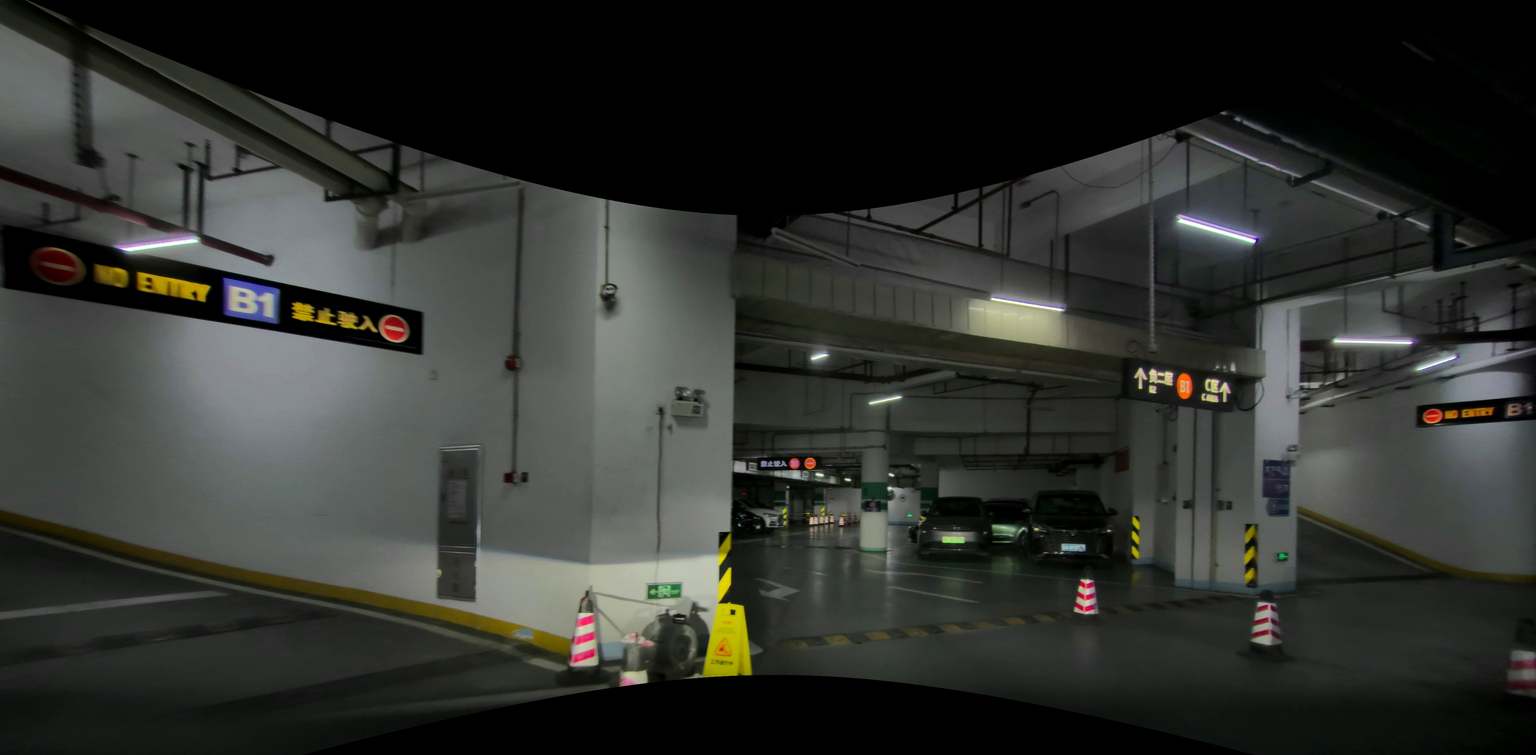B1: (228, 286, 282, 327), (1502, 399, 1533, 417), (1177, 376, 1192, 397)
C区: (1203, 377, 1220, 393)
NO ENTRY: (89, 261, 210, 302), (1444, 406, 1498, 421)
exits: (645, 581, 682, 598), (1276, 553, 1288, 562)
上: (1133, 365, 1147, 388), (1220, 380, 1231, 403)
左: (752, 574, 799, 602)
禁止通行: (31, 248, 81, 287), (379, 313, 410, 343), (1420, 409, 1442, 424), (804, 458, 815, 468)
禁止驶入: (288, 299, 377, 332), (758, 459, 786, 468)
负二层: (1147, 367, 1173, 385)
